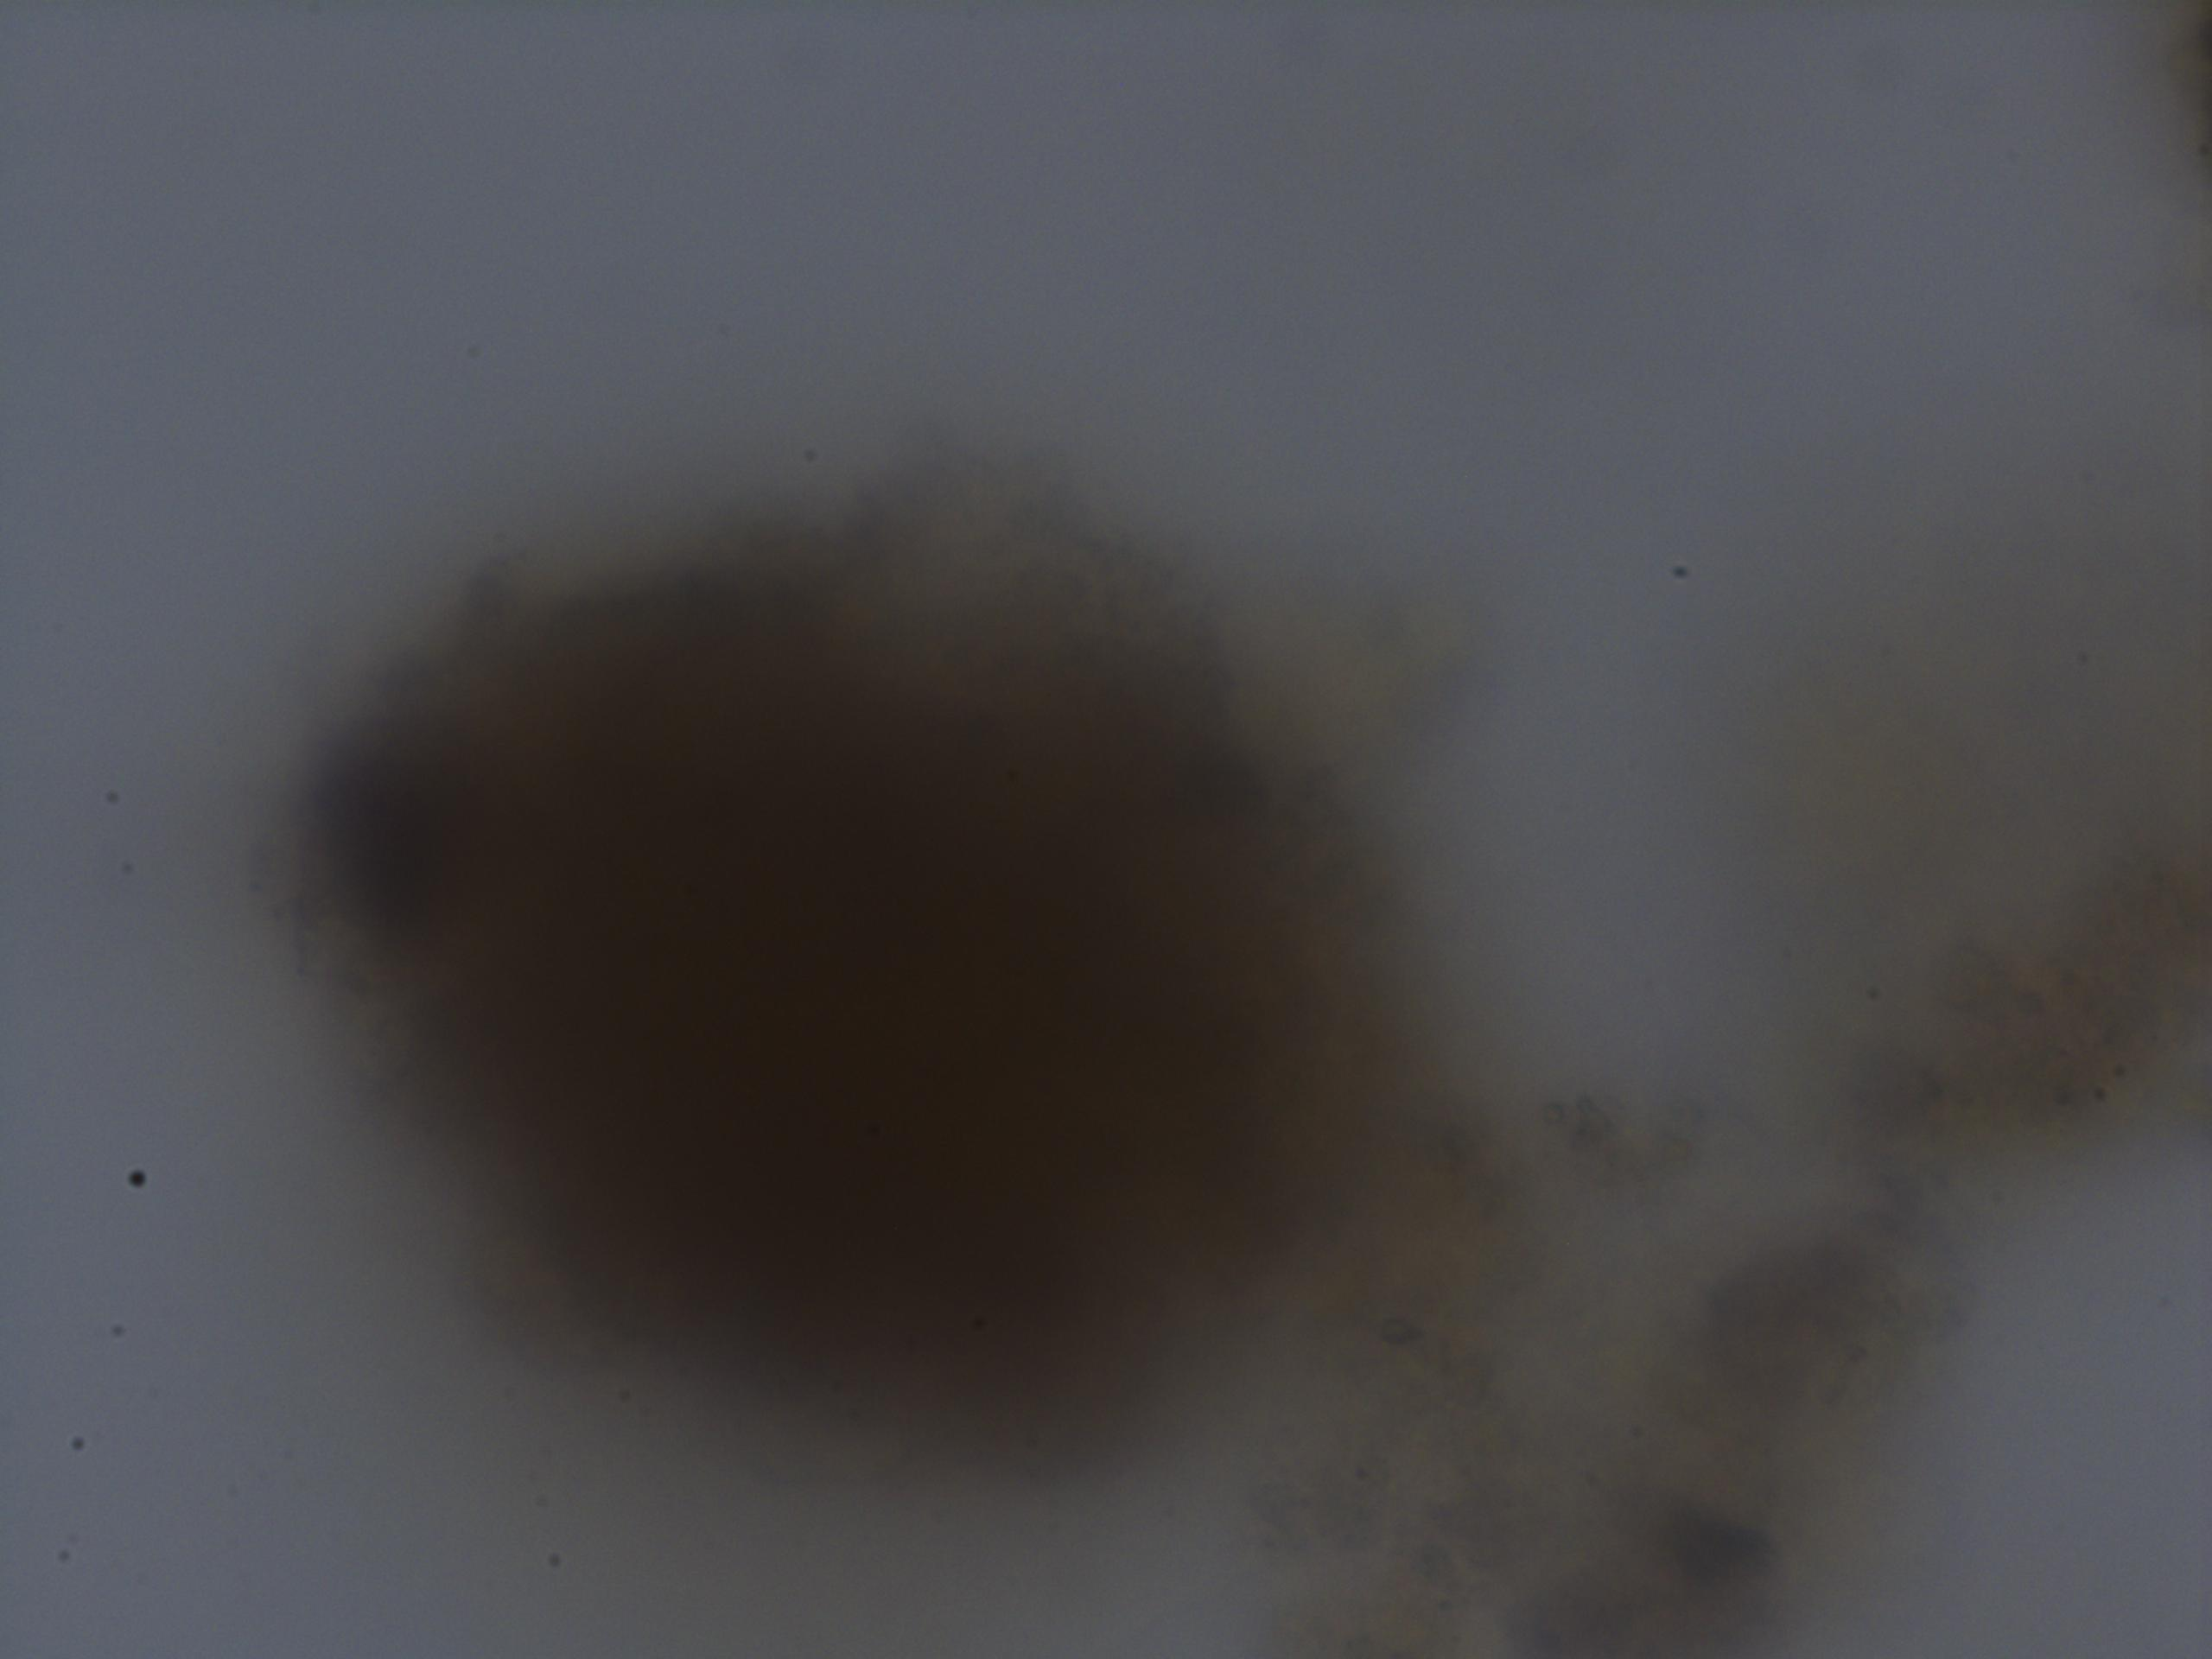spherical_floc: (279, 458, 1430, 1502)
